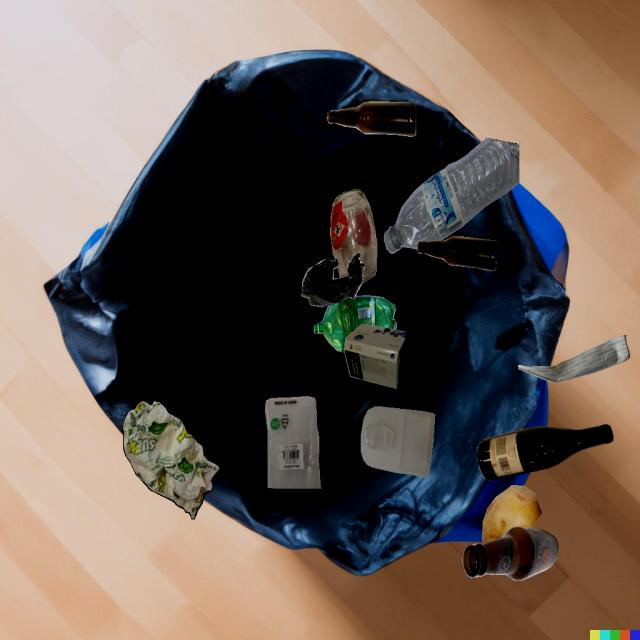biowaste: (482, 485, 542, 544)
cardboard: (344, 324, 408, 389)
glass: (477, 424, 614, 481), (463, 526, 558, 581), (330, 189, 377, 283), (327, 101, 416, 137), (417, 236, 498, 271)
paper: (123, 401, 220, 519), (518, 335, 630, 383)
plastic: (384, 138, 519, 253), (361, 406, 435, 477), (265, 396, 321, 489), (314, 295, 397, 353), (302, 253, 365, 307)
